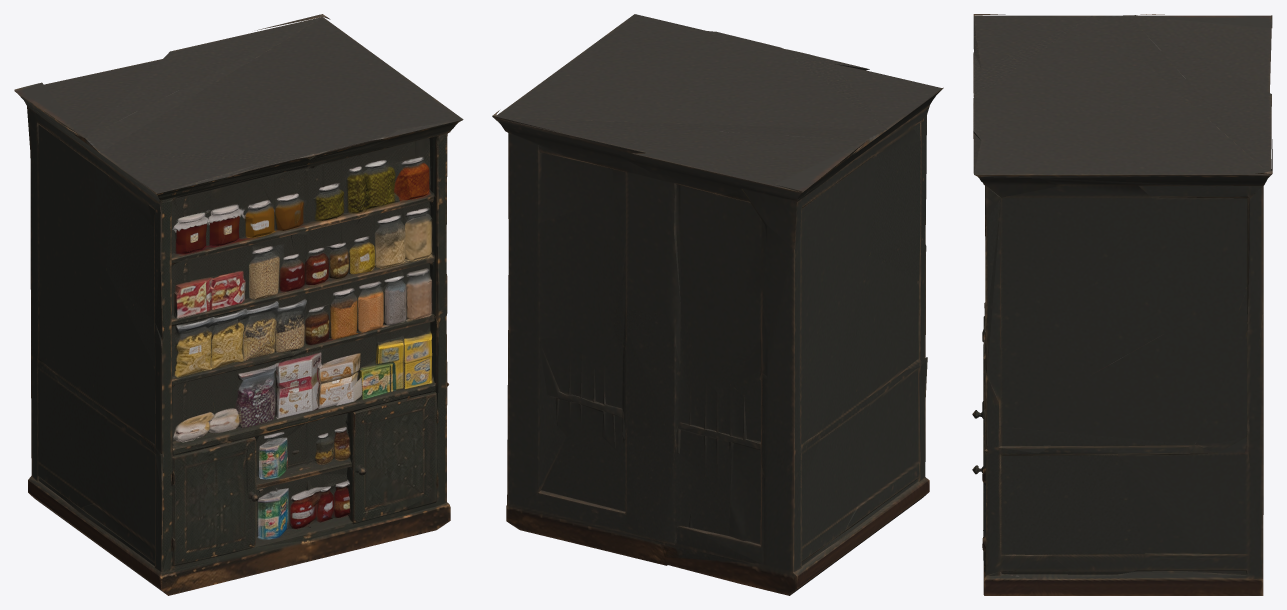
File: pantry-shelf.glb
3 renders of one model, left to right at view 1: azimuth 30°, elevation 25°; view 2: azimuth 150°, elevation 25°; view 3: azimuth 270°, elevation 25°, orthographic. The views are drawn at different scales.
Visible parts, largest first — view 1: Mesh_0; view 2: Mesh_0; view 3: Mesh_0.
Boxes of the visible parts, bbox=[...] form: Mesh_0: bbox=[14, 14, 463, 595]; Mesh_0: bbox=[492, 14, 943, 595]; Mesh_0: bbox=[972, 14, 1272, 595].
Bounding box in the file's own units: 1.5 × 1.9 × 1.19.
1 material, 1 textured.
